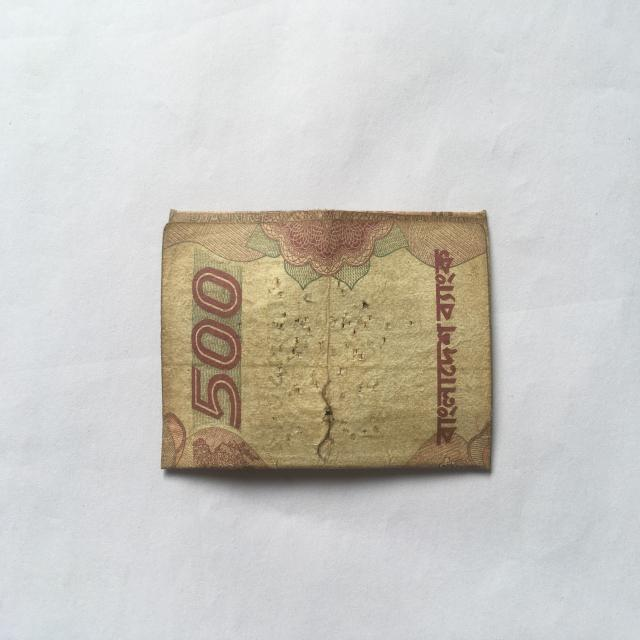Taka: (158, 199, 497, 466)
